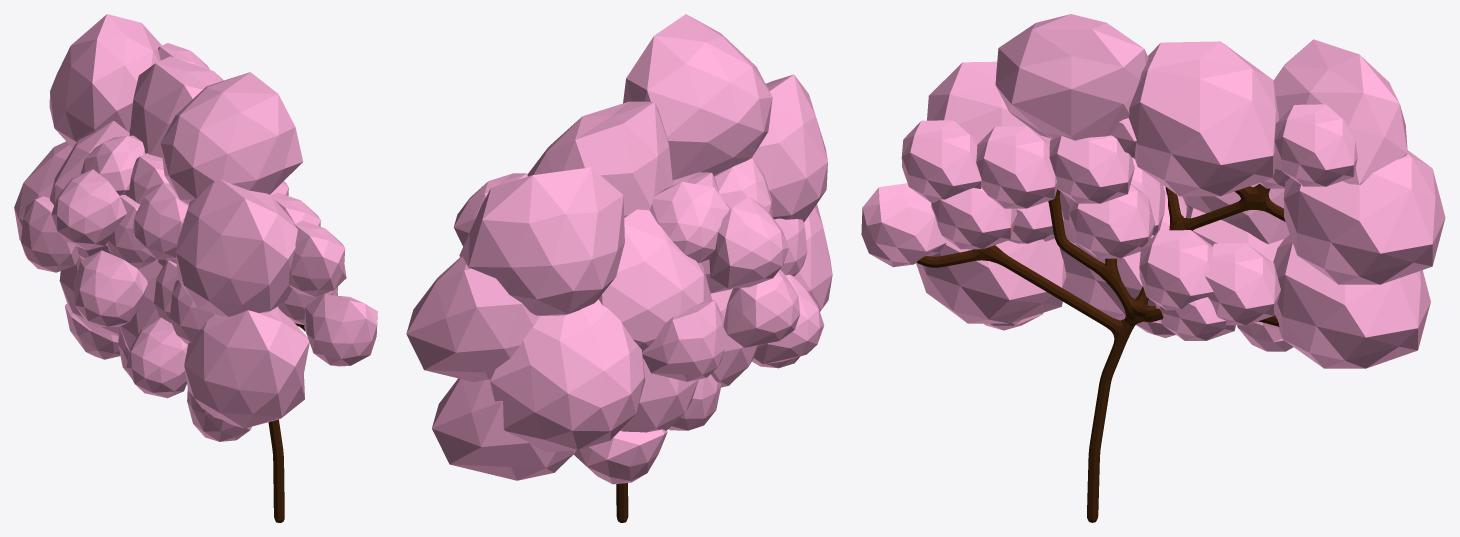
The model's file is flor de cerezo.fbx.
3 views of the same model, side by side, from view 1: azimuth 30°, elevation 25°; view 2: azimuth 150°, elevation 25°; view 3: azimuth 270°, elevation 25° (orthographic). The views are drawn at different scales.
Visible parts, largest first — view 1: Plane; view 2: Plane; view 3: Plane.
Boxes of the visible parts, left/top/right/bottom form: Plane: left=14, top=14, right=377, bottom=522; Plane: left=406, top=14, right=832, bottom=522; Plane: left=861, top=14, right=1445, bottom=522.
Size of the model in its own units: 1206 by 2110 by 2334.
